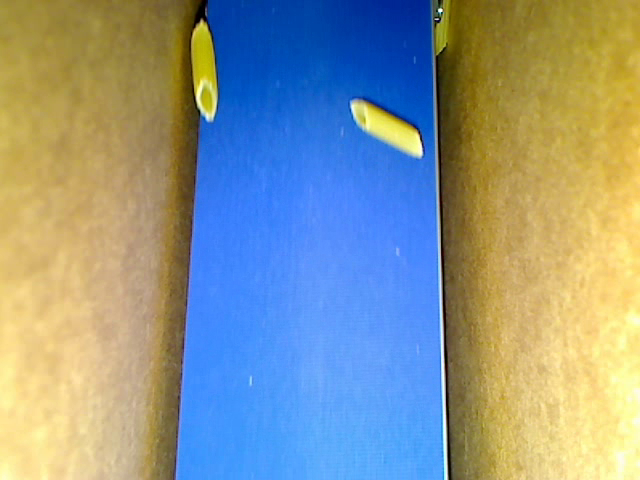penne: (348, 96, 424, 157), (186, 17, 220, 122), (433, 1, 447, 55)
